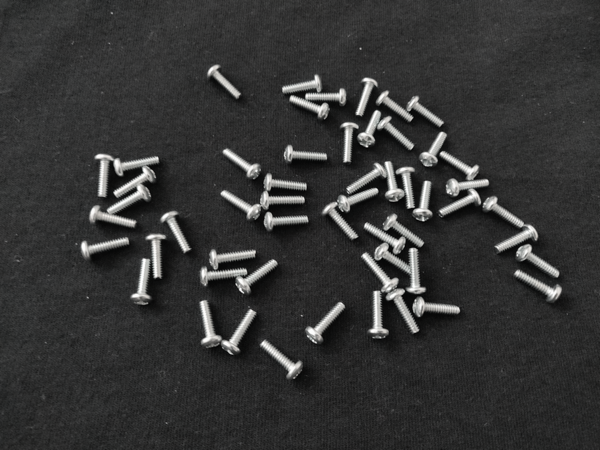shortscrew: (260, 340, 304, 382), (306, 302, 347, 346), (221, 309, 256, 357), (235, 259, 279, 296), (387, 289, 421, 336), (362, 252, 399, 295), (515, 271, 563, 303), (323, 202, 360, 243), (516, 246, 561, 279), (113, 165, 156, 199), (107, 184, 151, 217), (383, 214, 424, 249), (483, 196, 525, 230), (160, 211, 192, 255), (206, 64, 243, 102), (220, 190, 262, 223), (364, 223, 407, 255), (378, 116, 416, 152), (494, 224, 539, 253), (437, 190, 482, 219), (347, 163, 387, 195), (80, 238, 129, 264), (439, 151, 480, 182), (376, 90, 414, 123), (198, 300, 223, 350), (223, 149, 262, 181), (407, 96, 444, 129), (289, 95, 332, 122), (338, 186, 379, 214), (89, 205, 138, 228), (374, 244, 410, 274), (199, 266, 248, 288), (367, 291, 389, 340), (405, 249, 427, 298), (131, 258, 152, 307), (146, 233, 167, 282), (420, 131, 446, 170), (209, 250, 257, 271), (412, 298, 461, 318), (94, 154, 116, 198), (284, 145, 328, 167), (264, 212, 310, 233), (383, 161, 406, 203), (114, 156, 159, 177), (261, 190, 306, 211), (283, 74, 324, 97), (356, 111, 381, 148), (356, 77, 378, 119), (397, 165, 417, 210), (262, 173, 309, 192), (446, 178, 489, 198), (339, 122, 359, 164), (306, 88, 348, 107), (414, 181, 433, 222)
